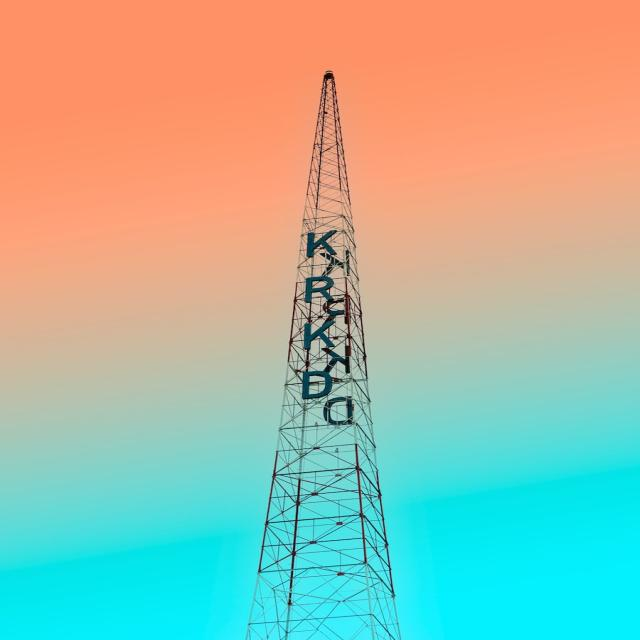transmission tower: (185, 62, 433, 582)
